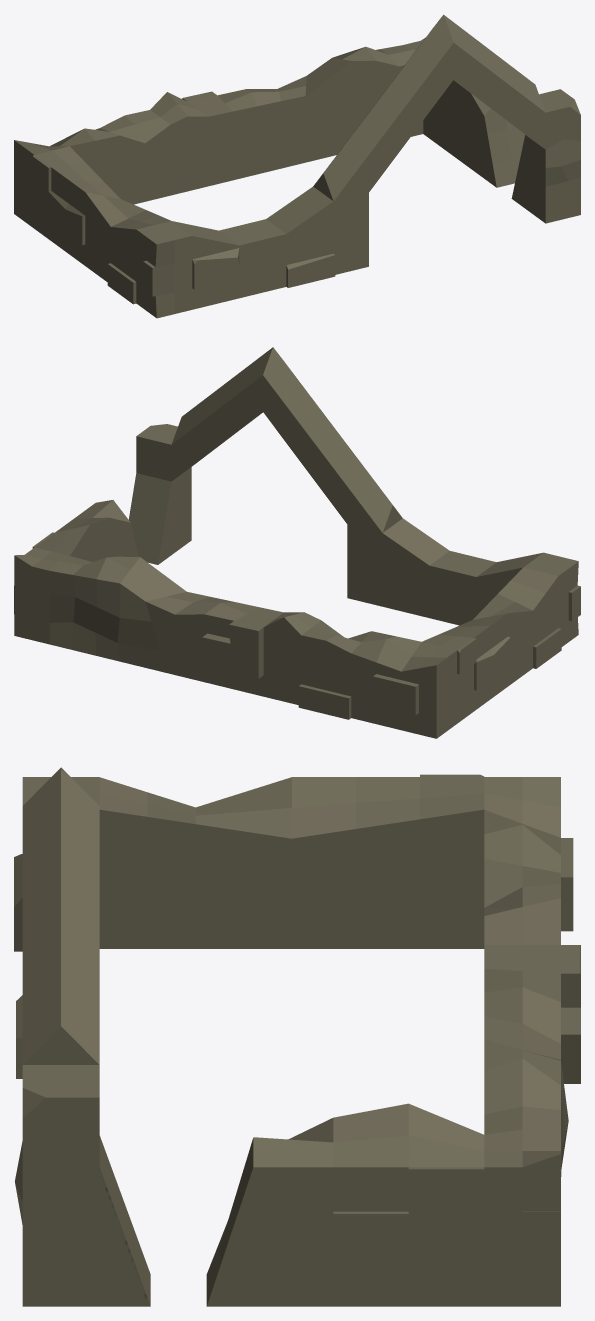
The model's file is Ruins1.fbx.
3 views of the same model, one above another, from view 1: azimuth 30°, elevation 25°; view 2: azimuth 150°, elevation 25°; view 3: azimuth 270°, elevation 25° (orthographic). The views are drawn at different scales.
Parts seen in each view (by area): view 1: Ruins1; view 2: Ruins1; view 3: Ruins1.
Part boxes in pixels (x1,y1,x2,y2): Ruins1: (14,14,580,318); Ruins1: (14,347,580,738); Ruins1: (14,767,580,1306).
Bounding box in the file's own units: 1217 × 606 × 737.
